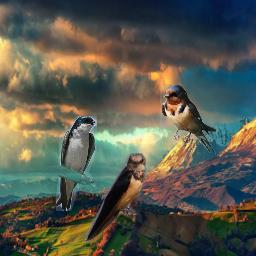Swallow: (85, 153, 146, 244), (160, 84, 216, 155), (56, 116, 97, 211)
